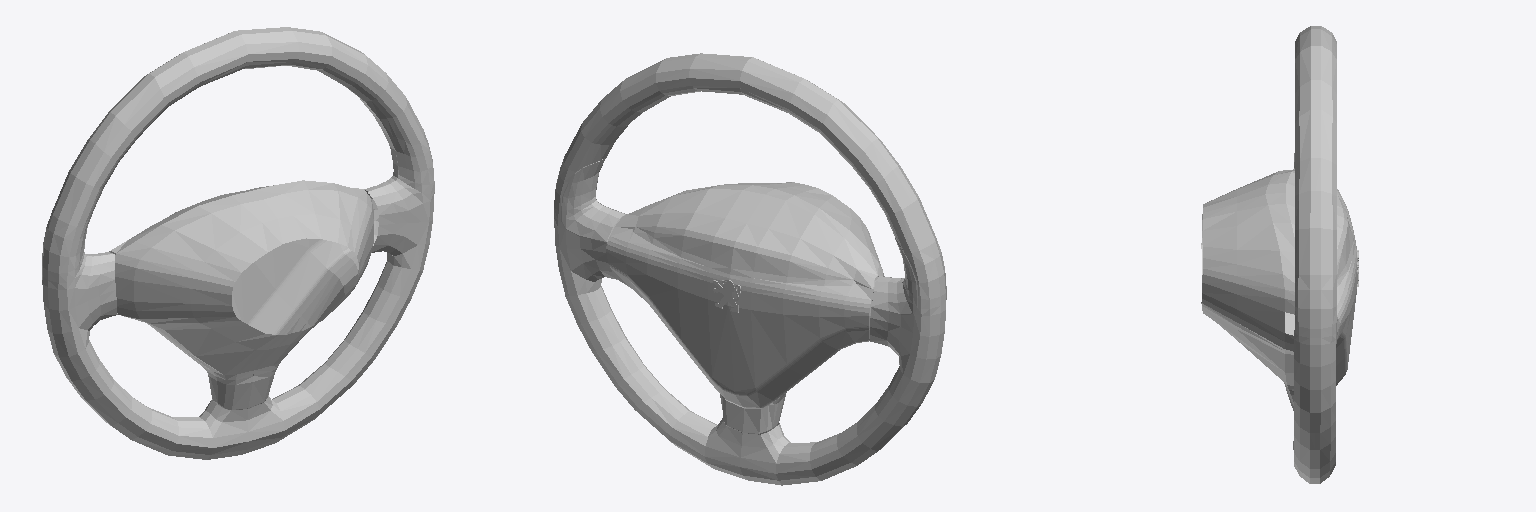
Rendered from VolPeugeot.obj.
3 renders of one model, left to right at view 1: azimuth 30°, elevation 25°; view 2: azimuth 150°, elevation 25°; view 3: azimuth 270°, elevation 25°, orthographic.
Visible parts, largest first — view 1: Volante; view 2: Volante; view 3: Volante.
Boxes of the visible parts, box(x1,y1,x2,y2) form: Volante: box(42, 27, 434, 459); Volante: box(554, 53, 946, 485); Volante: box(1201, 26, 1358, 483).
Bounding box in the file's own units: 0.4745 × 0.4932 × 0.1672.